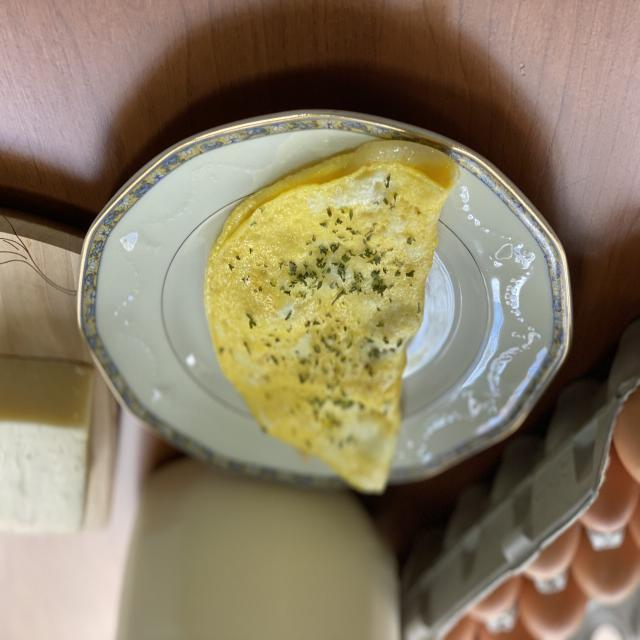telur_ayam_dadar: (204, 138, 461, 496)
